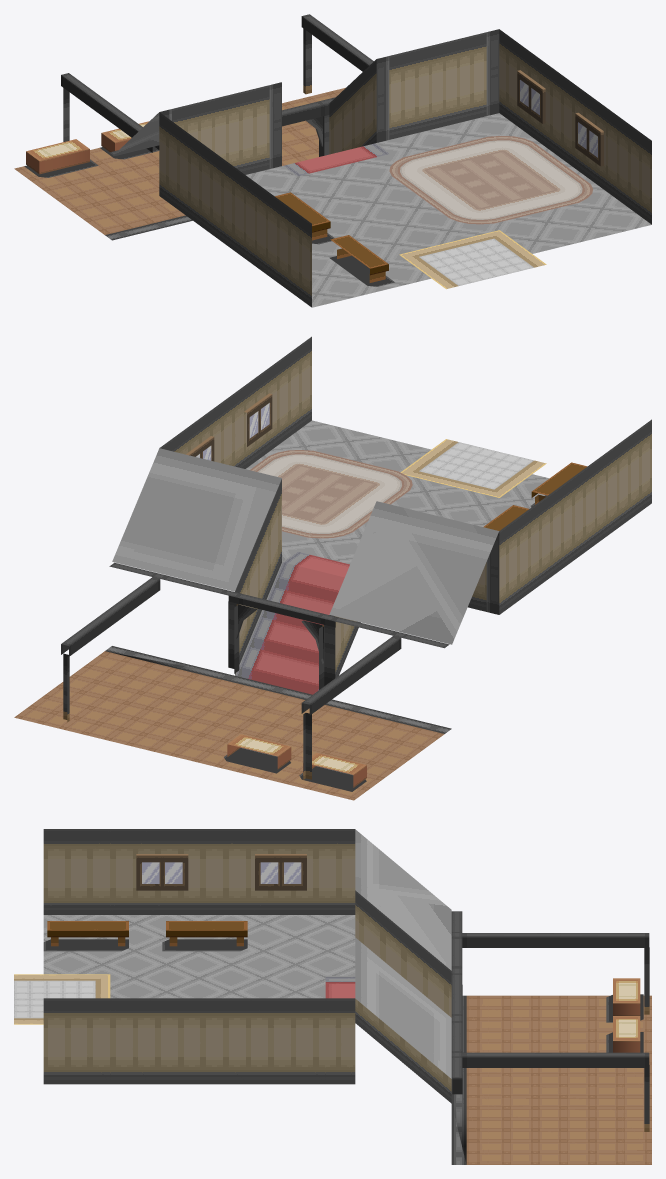
The model's file is HOTEL-B1-5.obj.
The picture shows the model from 3 angles, top to bottom: view 1: azimuth 30°, elevation 25°; view 2: azimuth 150°, elevation 25°; view 3: azimuth 270°, elevation 25°; orthographic projection. The views are drawn at different scales.
Parts seen in each view (by area): view 1: Indoor_All_v2_06; view 2: Indoor_All_v2_06; view 3: Indoor_All_v2_06.
Part boxes in pixels (<box>): Indoor_All_v2_06: <box>14,14,651,307</box>; Indoor_All_v2_06: <box>14,336,651,800</box>; Indoor_All_v2_06: <box>14,829,651,1164</box>.
Size of the model in its own units: 216 by 99 by 344.
